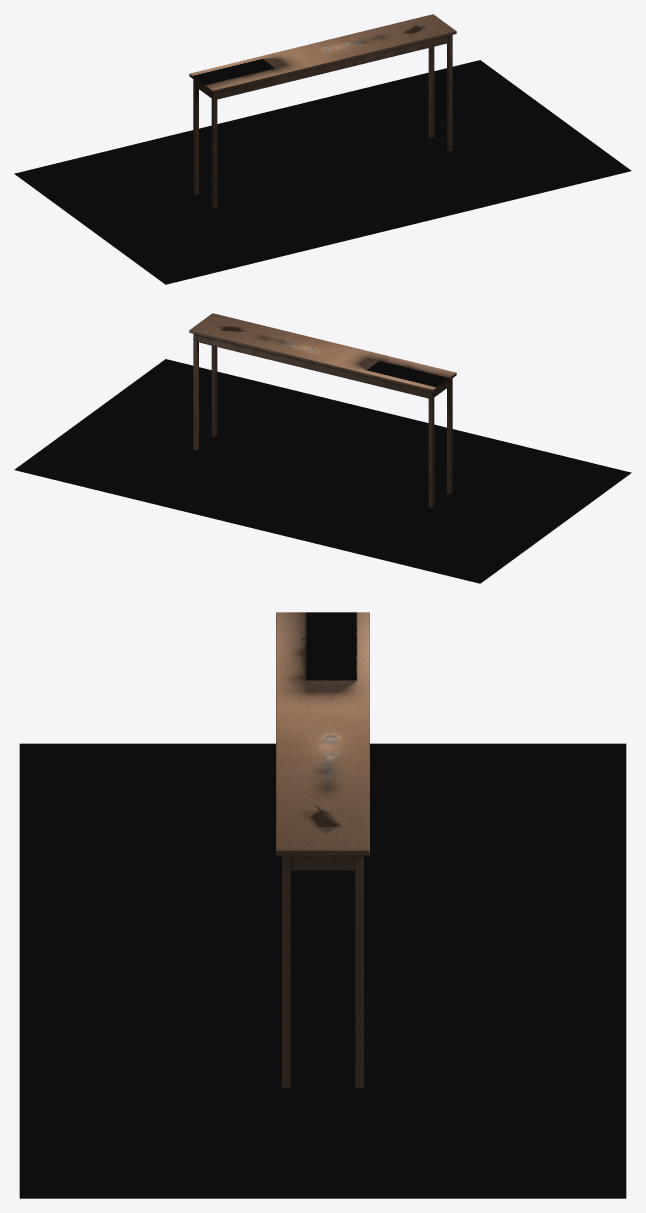
Rendered from 810_mgw.glb.
3 views of the same model, one above another, from view 1: azimuth 30°, elevation 25°; view 2: azimuth 150°, elevation 25°; view 3: azimuth 270°, elevation 25° (orthographic). The views are drawn at different scales.
Visible parts, largest first — view 1: Shadow, Table; view 2: Shadow, Table; view 3: Shadow, Table.
Part boxes in pixels (x1,y1,x2,y2): Shadow: (14,60,631,284); Table: (189,14,456,208); Shadow: (14,359,631,583); Table: (189,313,456,507); Shadow: (19,743,626,1198); Table: (276,612,369,1087).
Bounding box in the file's own units: 12.6 × 3.1 × 7.1.
Materials: 2 (2 with a texture image).
